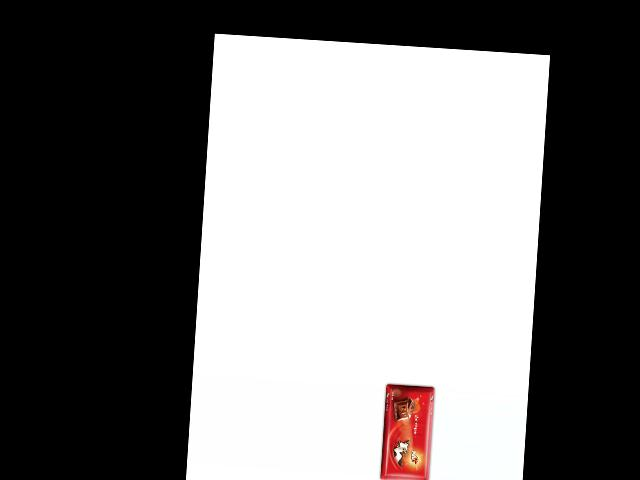chocolate: (376, 382, 435, 480)
